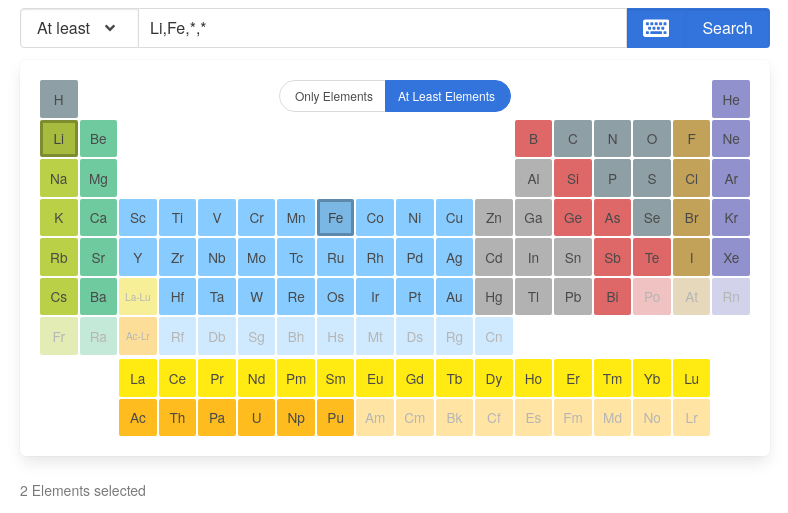
Scenario: MaterialsInput › preserves wildcard segments when converting back to chemical system mode
This screenshot has width=788, height=513.
Click the button "At least": (80, 28) [20,8,139,48]
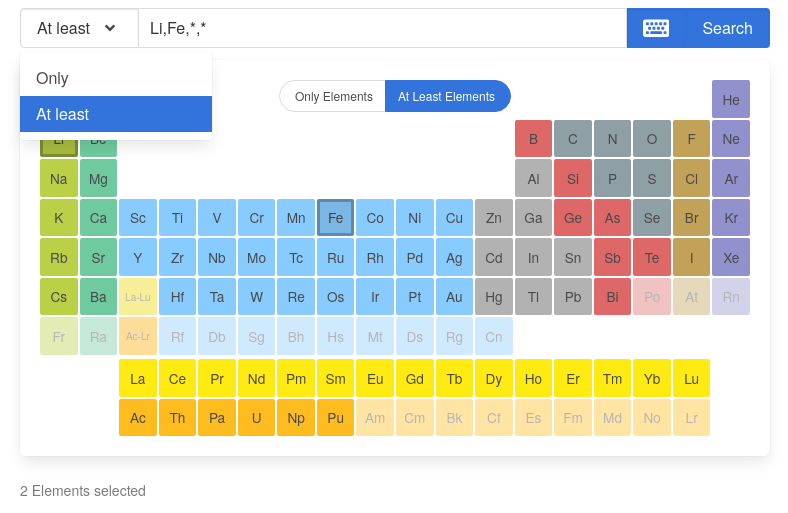
Click the button "Only": (116, 78) [20,60,212,96]
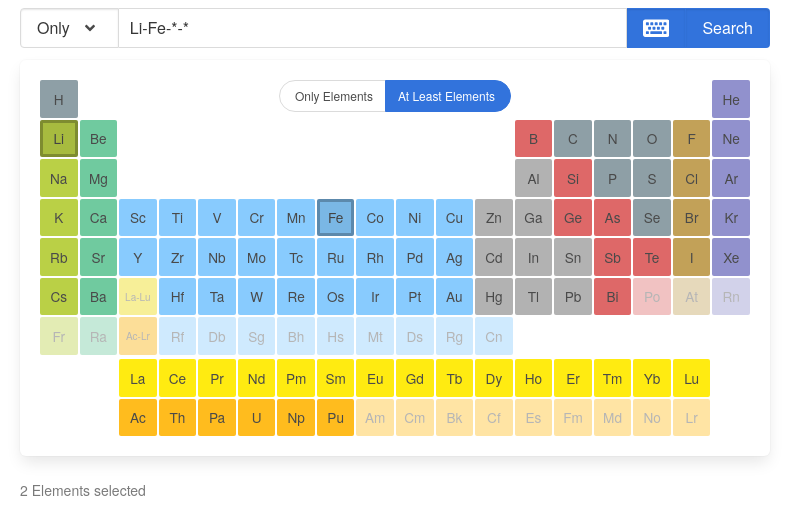
Expected: the search field with test id "materials-input-search-input" holds "Li-Fe-*-*", [119,8,627,48]
